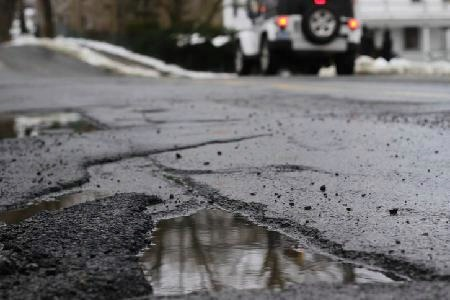pothole: (132, 194, 422, 296), (0, 149, 192, 227), (0, 105, 110, 140)
